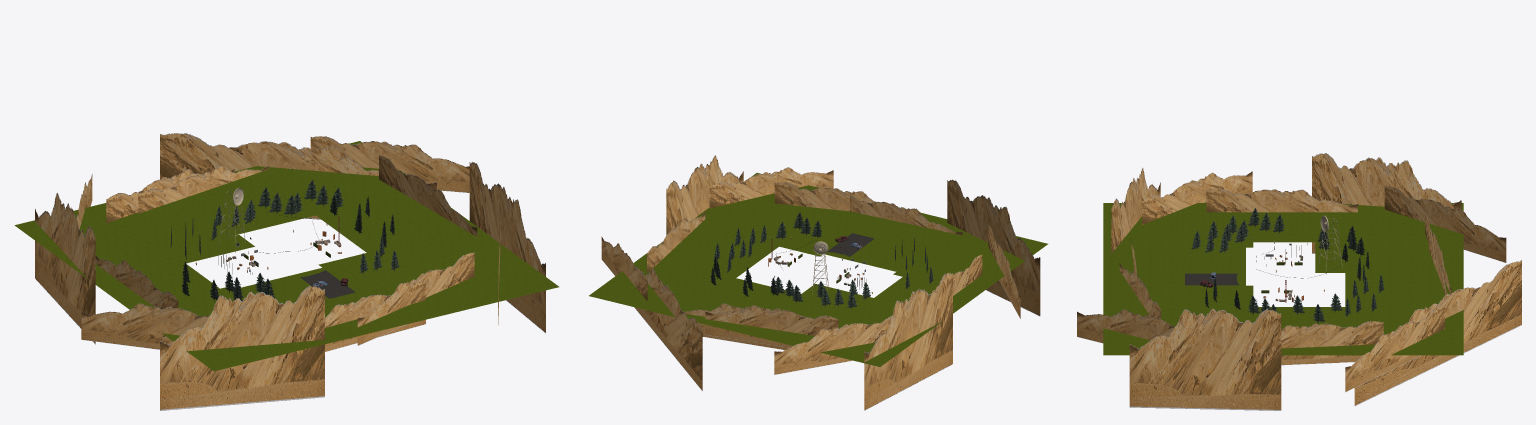
Rendered from passthrough.obj.
The picture shows the model from 3 angles, left to right: view 1: azimuth 30°, elevation 25°; view 2: azimuth 150°, elevation 25°; view 3: azimuth 270°, elevation 25°; orthographic projection. The views are drawn at different scales.
Visible parts, largest first — view 1: Plane.046, mountains.003, mountains.013, mountains.006, mountains.012, mountains.001, mountains.008, mountains.010, mountains.007, mountains.009, mountains.002, mountains (+2 smaller); view 2: Plane.046, mountains.006, mountains.003, mountains.013, mountains.005, mountains.004, mountains.012, mountains.011, mountains.010, mountains.002, mountains.008, mountains.007 (+4 smaller); view 3: Plane.046, mountains.012, mountains.013, mountains.006, mountains.005, mountains.008, mountains.007, mountains, mountains.001, mountains.011, mountains.003, mountains.010 (+2 smaller).
Boxes of the visible parts, left/top/right/bottom form: Plane.046: left=14, top=141, right=558, bottom=371; mountains.003: left=160, top=286, right=324, bottom=410; mountains.013: left=160, top=133, right=436, bottom=219; mountains.006: left=35, top=192, right=95, bottom=344; mountains.012: left=469, top=162, right=545, bottom=332; mountains.001: left=81, top=303, right=208, bottom=349; mountains.008: left=310, top=136, right=469, bottom=192; mountains.010: left=357, top=252, right=474, bottom=345; mountains.007: left=379, top=155, right=477, bottom=236; mountains.009: left=138, top=165, right=268, bottom=213; mountains.002: left=325, top=281, right=425, bottom=351; mountains: left=95, top=256, right=178, bottom=309; Plane.046: left=589, top=173, right=1047, bottom=366; mountains.006: left=864, top=272, right=952, bottom=410; mountains.003: left=947, top=179, right=1040, bottom=316; mountains.013: left=634, top=266, right=702, bottom=390; mountains.005: left=774, top=316, right=892, bottom=374; mountains.004: left=705, top=305, right=838, bottom=347; mountains.012: left=666, top=155, right=743, bottom=234; mountains.011: left=709, top=167, right=833, bottom=208; mountains.010: left=774, top=182, right=874, bottom=211; mountains.002: left=850, top=194, right=962, bottom=235; mountains.008: left=601, top=236, right=647, bottom=315; mountains.007: left=647, top=212, right=705, bottom=273; Plane.046: left=1103, top=203, right=1463, bottom=355; mountains.012: left=1129, top=308, right=1281, bottom=410; mountains.013: left=1354, top=260, right=1521, bottom=405; mountains.006: left=1312, top=153, right=1461, bottom=253; mountains.005: left=1384, top=186, right=1506, bottom=262; mountains.008: left=1345, top=305, right=1444, bottom=392; mountains.007: left=1281, top=321, right=1383, bottom=365; mountains: left=1206, top=188, right=1357, bottom=212; mountains.001: left=1142, top=171, right=1252, bottom=224; mountains.011: left=1077, top=309, right=1174, bottom=343; mountains.003: left=1111, top=167, right=1160, bottom=253; mountains.010: left=1119, top=262, right=1160, bottom=319.
Bounding box in the file's own units: 187 × 103 × 179.
25 materials, 25 textured.
